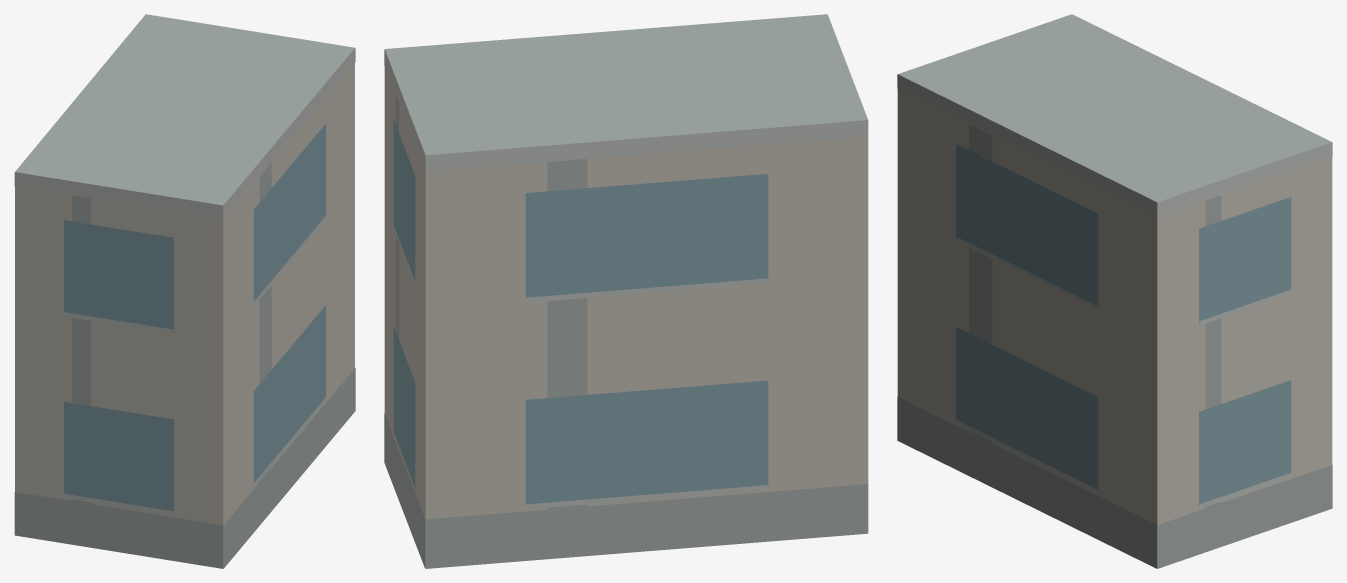
File: survey-upis-32571817.glb
3 views of the same model, side by side, from view 1: azimuth 30°, elevation 25°; view 2: azimuth 150°, elevation 25°; view 3: azimuth 270°, elevation 25° (orthographic). The views are drawn at different scales.
Visible parts, largest first — view 1: survey-upis-32571817.tmp; view 2: survey-upis-32571817.tmp; view 3: survey-upis-32571817.tmp.
Boxes of the visible parts, x1=… form: survey-upis-32571817.tmp: x1=14, y1=14, x2=355, y2=568; survey-upis-32571817.tmp: x1=384, y1=14, x2=868, y2=568; survey-upis-32571817.tmp: x1=897, y1=14, x2=1332, y2=568.
Bounding box in the file's own units: 6.73 × 6.1 × 6.57.
